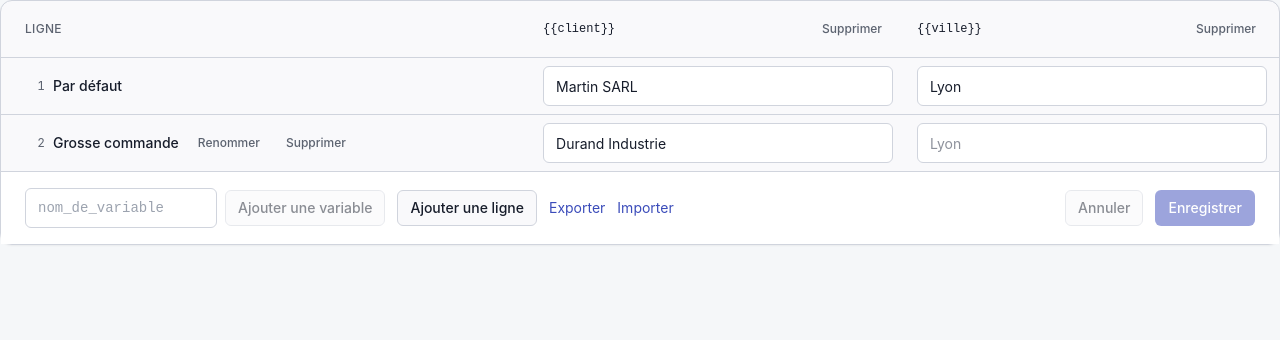
Données de test — le tableau › le refus du serveur est montré tel quel et la saisie est gardée
Replace the text in the field named "client pour Par défaut" with "Société \"Alpha\"". click: (718, 86)
box: [543, 66, 893, 106]
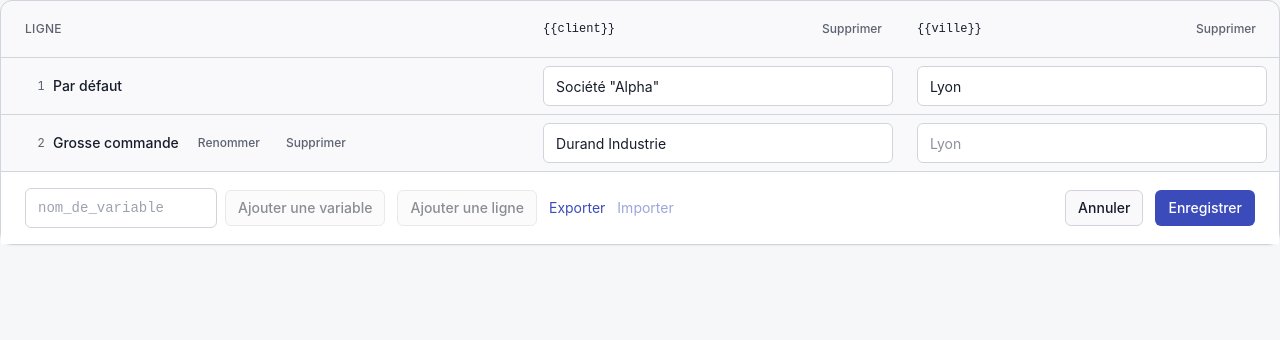
Click the button with test id "donnees-enregistrer". click: (1205, 208)
box: [1156, 190, 1255, 226]
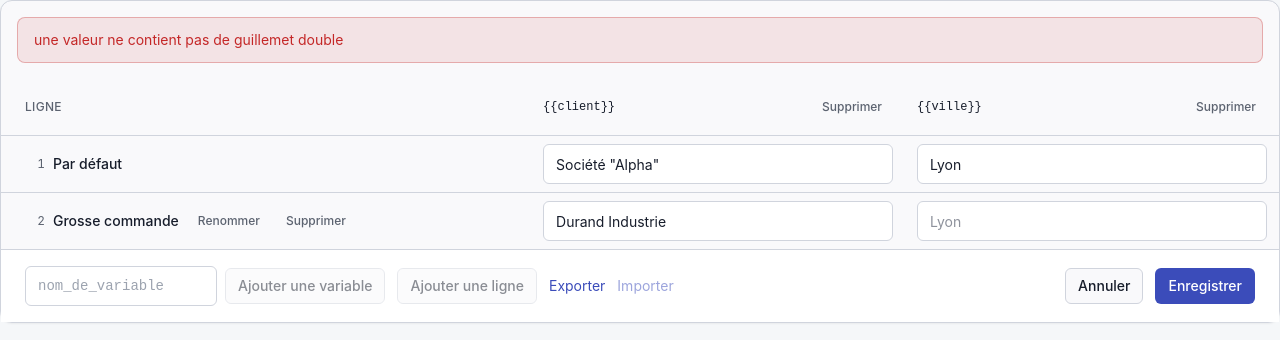
Check: the message with test id "donnees-erreur" shows "guillemet double", box [34, 31, 343, 48]
